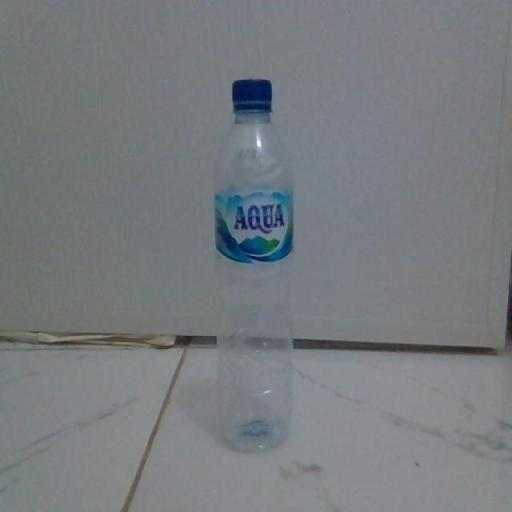bottle: (189, 67, 319, 476)
